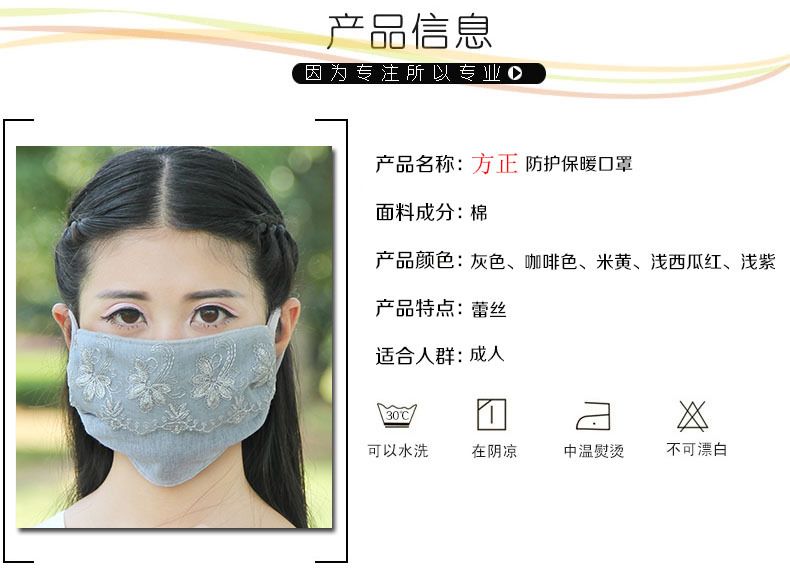face_mask: (72, 229, 265, 474)
